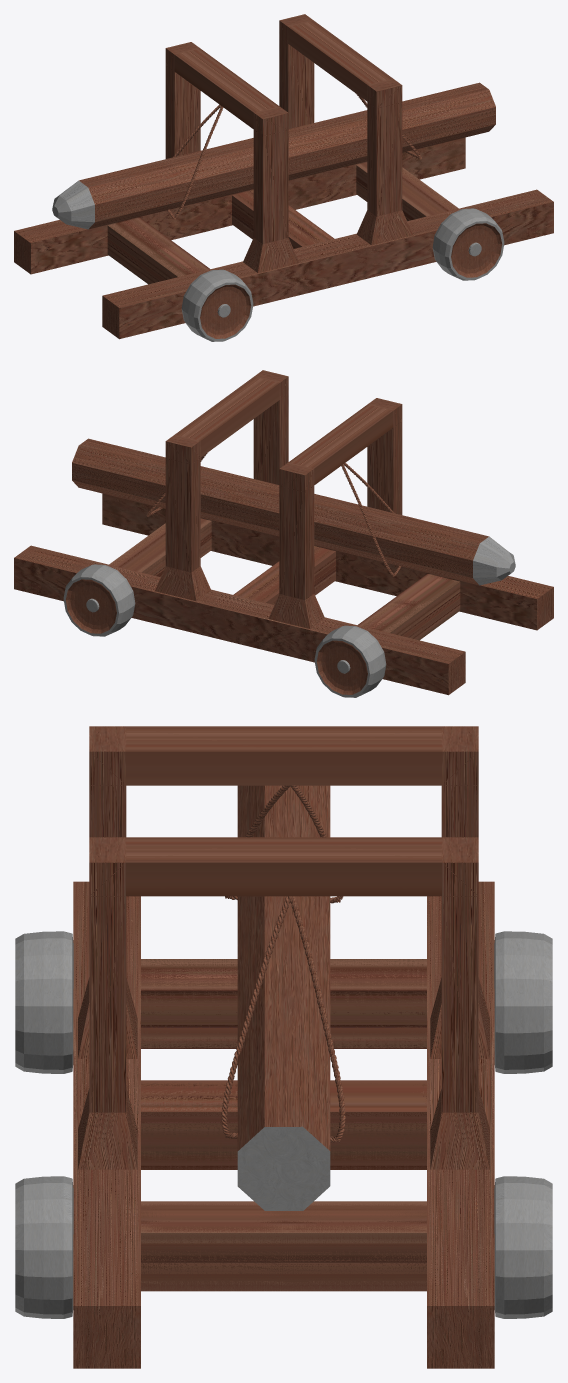
File: StormRam2.fbx
The picture shows the model from 3 angles, top to bottom: view 1: azimuth 30°, elevation 25°; view 2: azimuth 150°, elevation 25°; view 3: azimuth 270°, elevation 25°; orthographic projection. The views are drawn at different scales.
Visible parts, largest first — view 1: Cube.001; view 2: Cube.001; view 3: Cube.001.
Boxes of the visible parts, left/top/right/bottom form: Cube.001: left=14, top=14, right=553, bottom=341; Cube.001: left=14, top=370, right=553, bottom=697; Cube.001: left=15, top=726, right=552, bottom=1368.
Bounding box in the file's own units: 2051 × 869 × 1070.
Materials: 2 (2 with a texture image).
